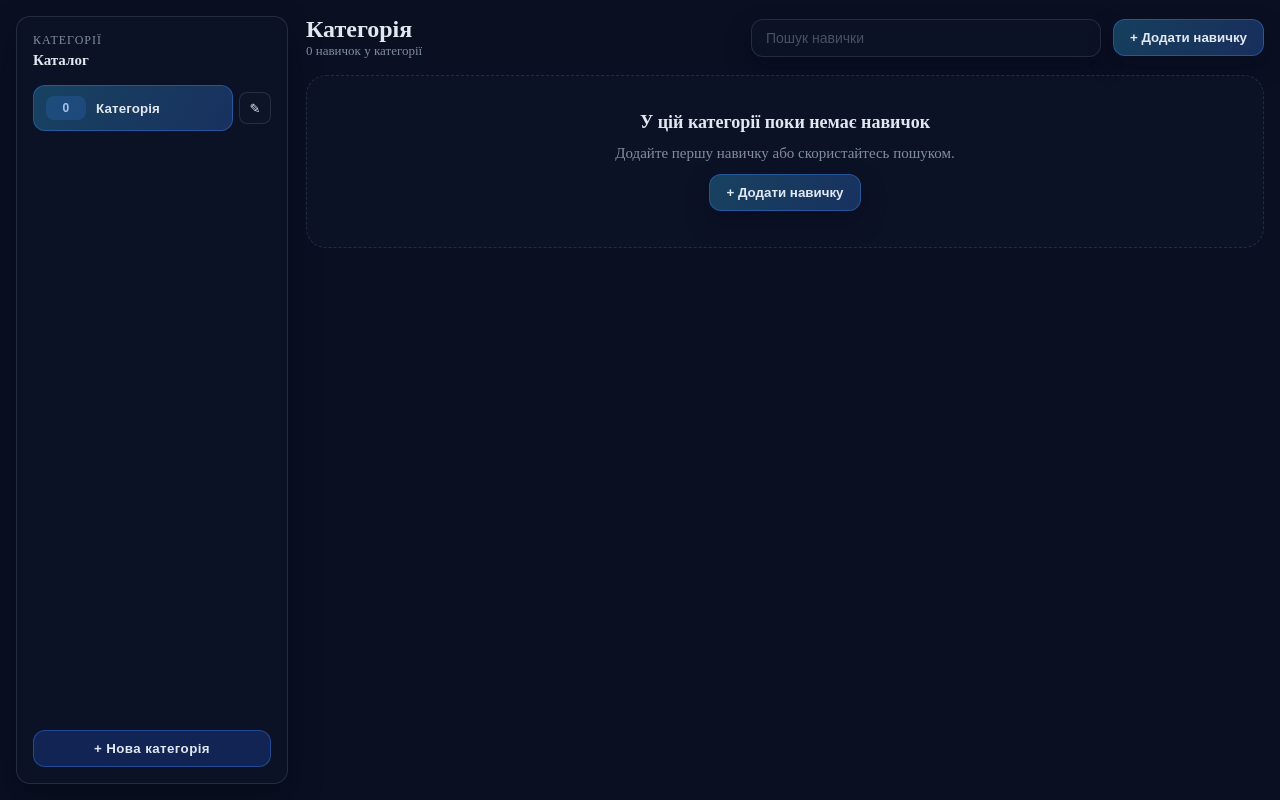
Test: Skills page › opens create skill modal from header button
Click the button "+ Додати навичку" in the row of "навичок у категорії" at (1188, 38), box [1113, 19, 1264, 56]
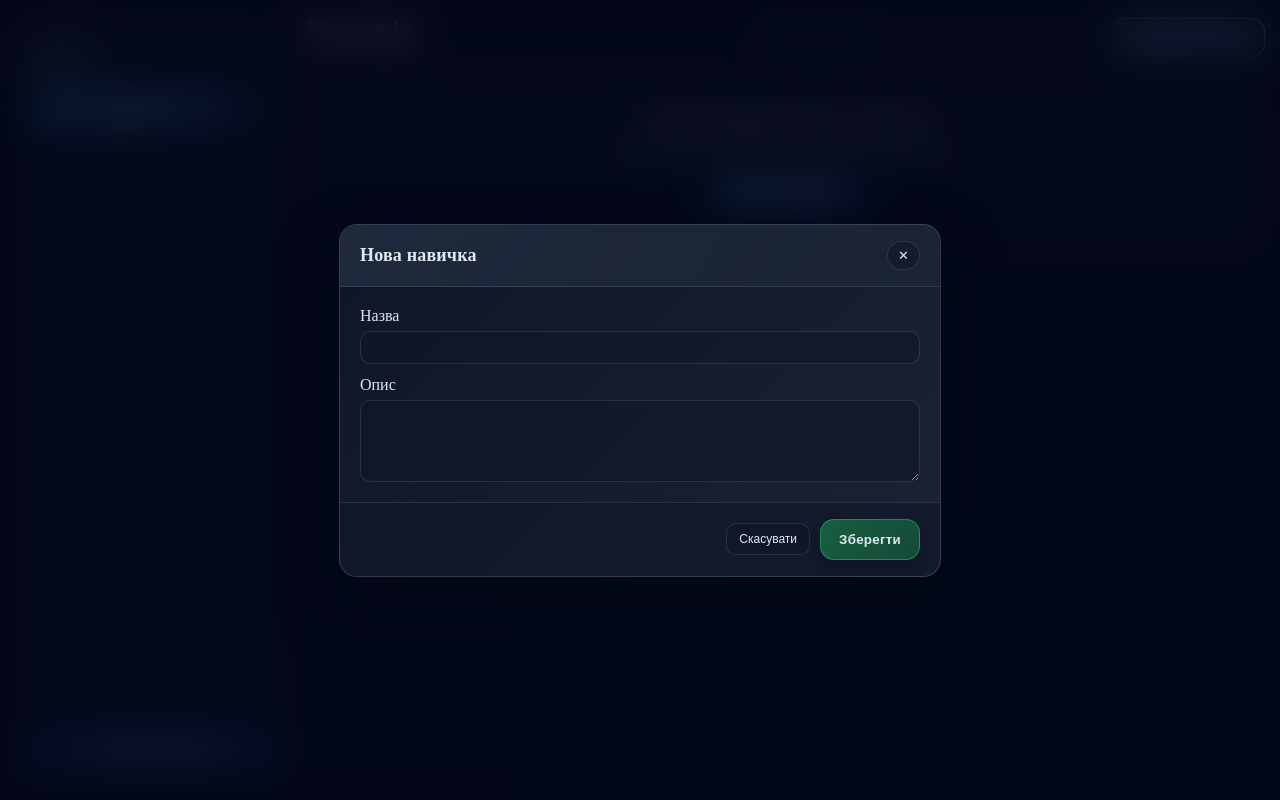
Result: the field labelled "Назва" is shown at [360, 330, 920, 364]
